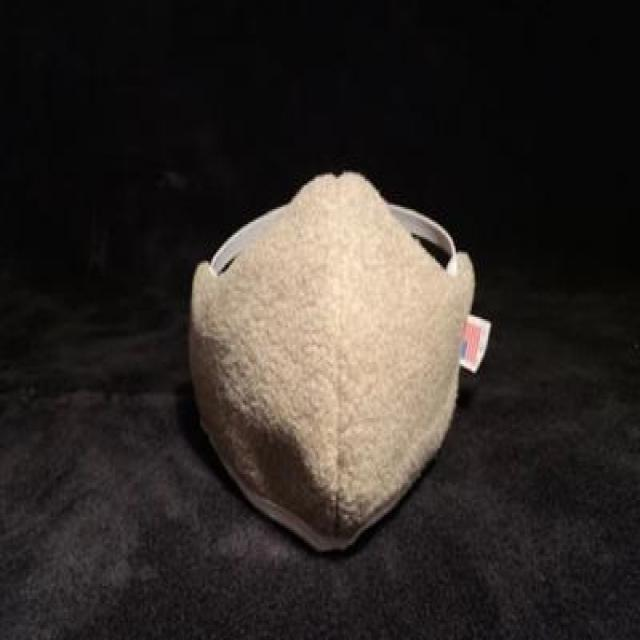non-organic waste: (187, 170, 477, 560)
